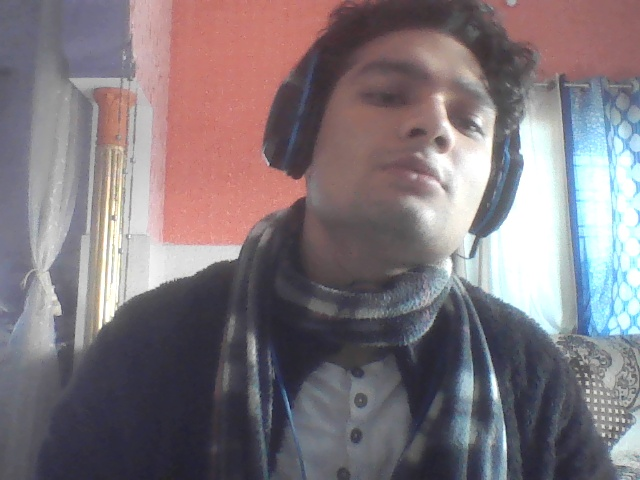real: (305, 0, 493, 266)
